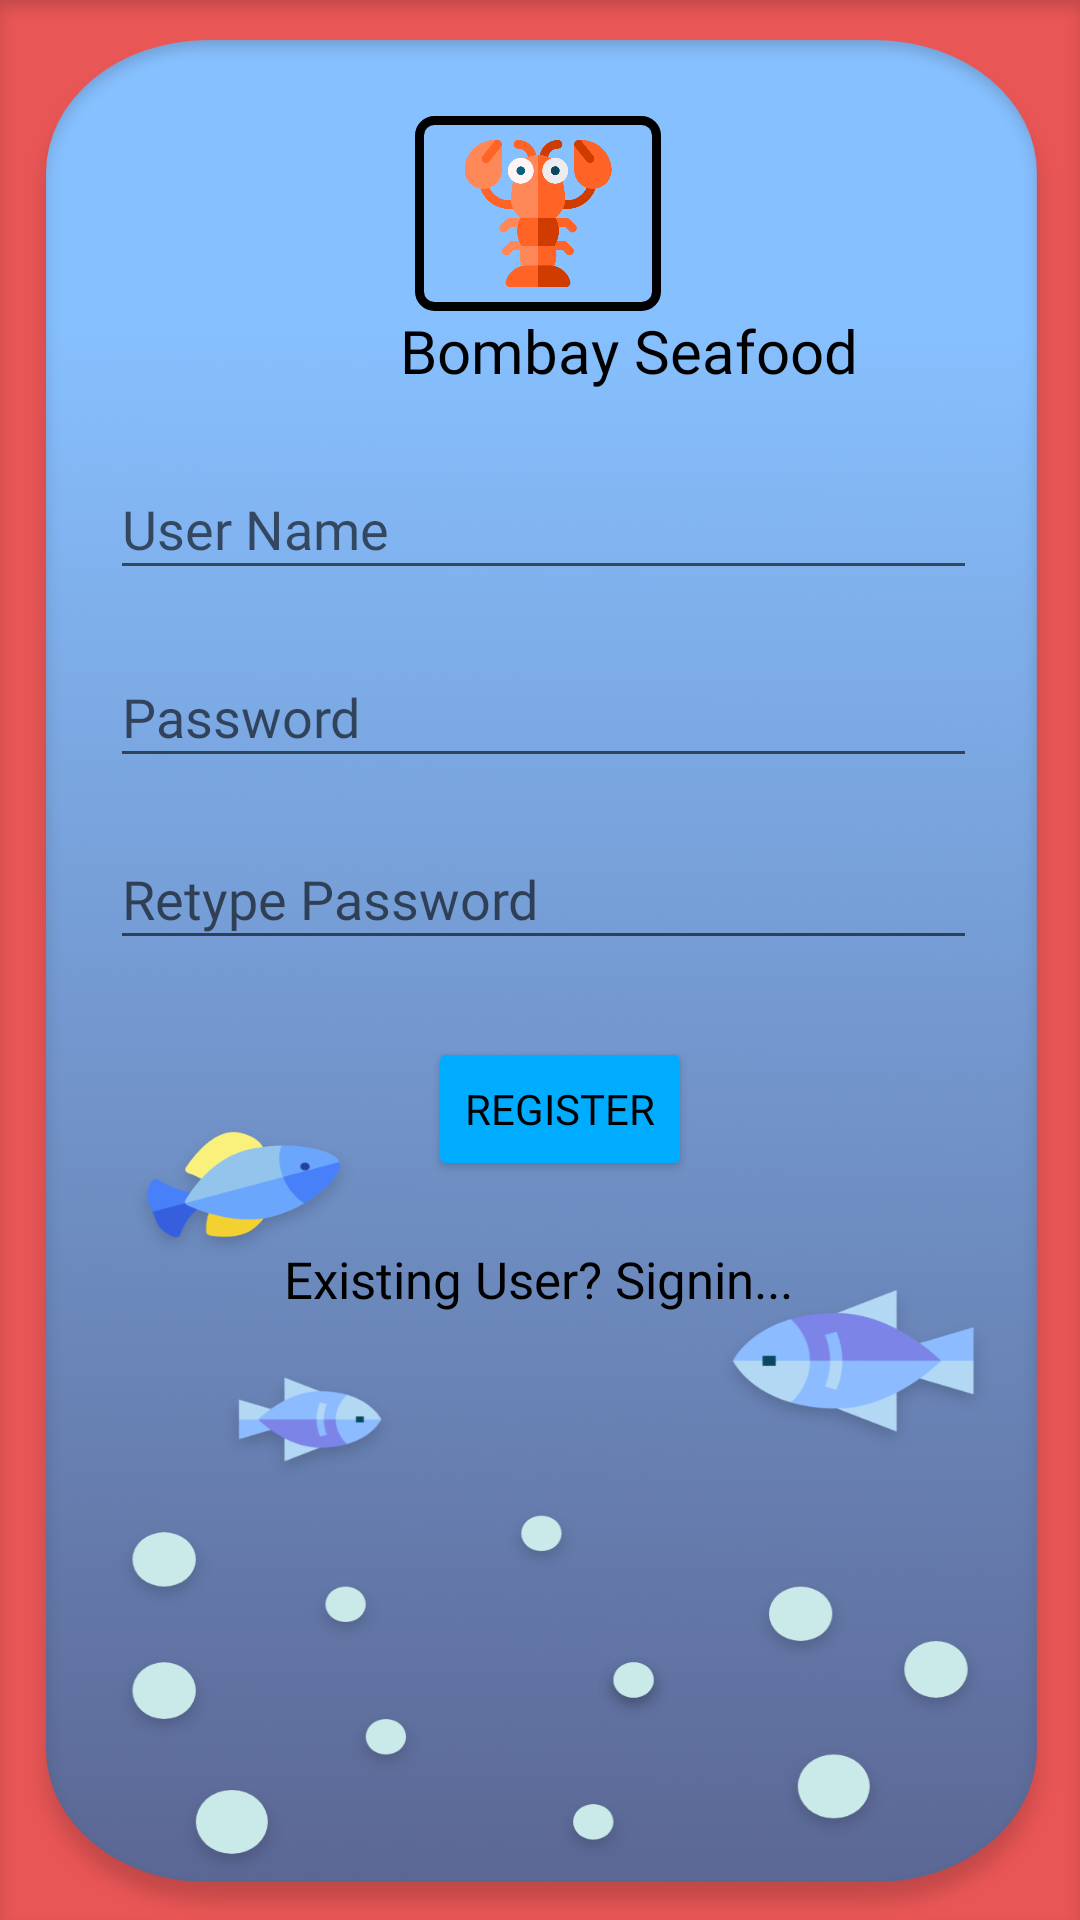

Icons on this 1080 × 1920 Android screen, each with the point to tap as [x,y]:
lobster: [538,213]
